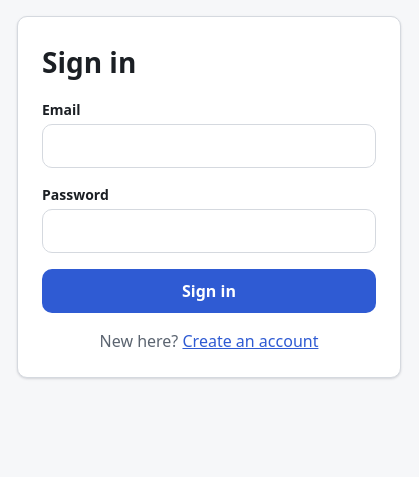
Test: SignInPage › shows the server message for wrong credentials
The width and height of the screenshot is (419, 477).
Type "ada@example.com" into the field labelled "Email" at (209, 146), box [42,124,376,168]
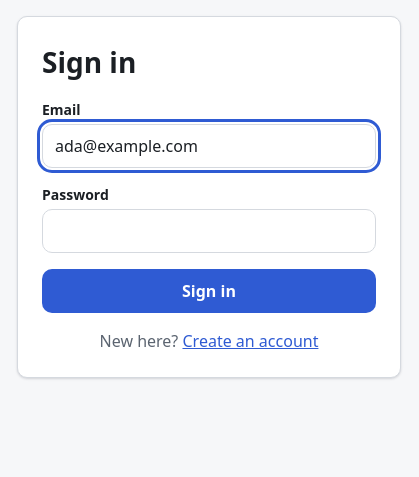
Type "wrong" into the password field labelled "Password" at (209, 231), box [42,209,376,253]
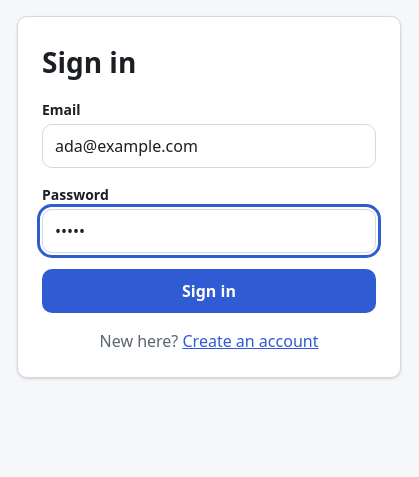
Click the button "Sign in" at (209, 291), box [42,269,376,313]
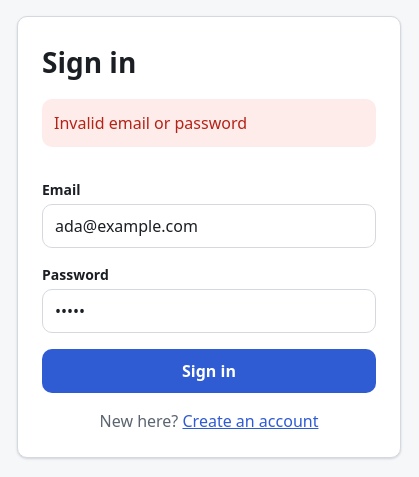
Check: the message reads "Invalid email or password", box [54,112,247,134]
